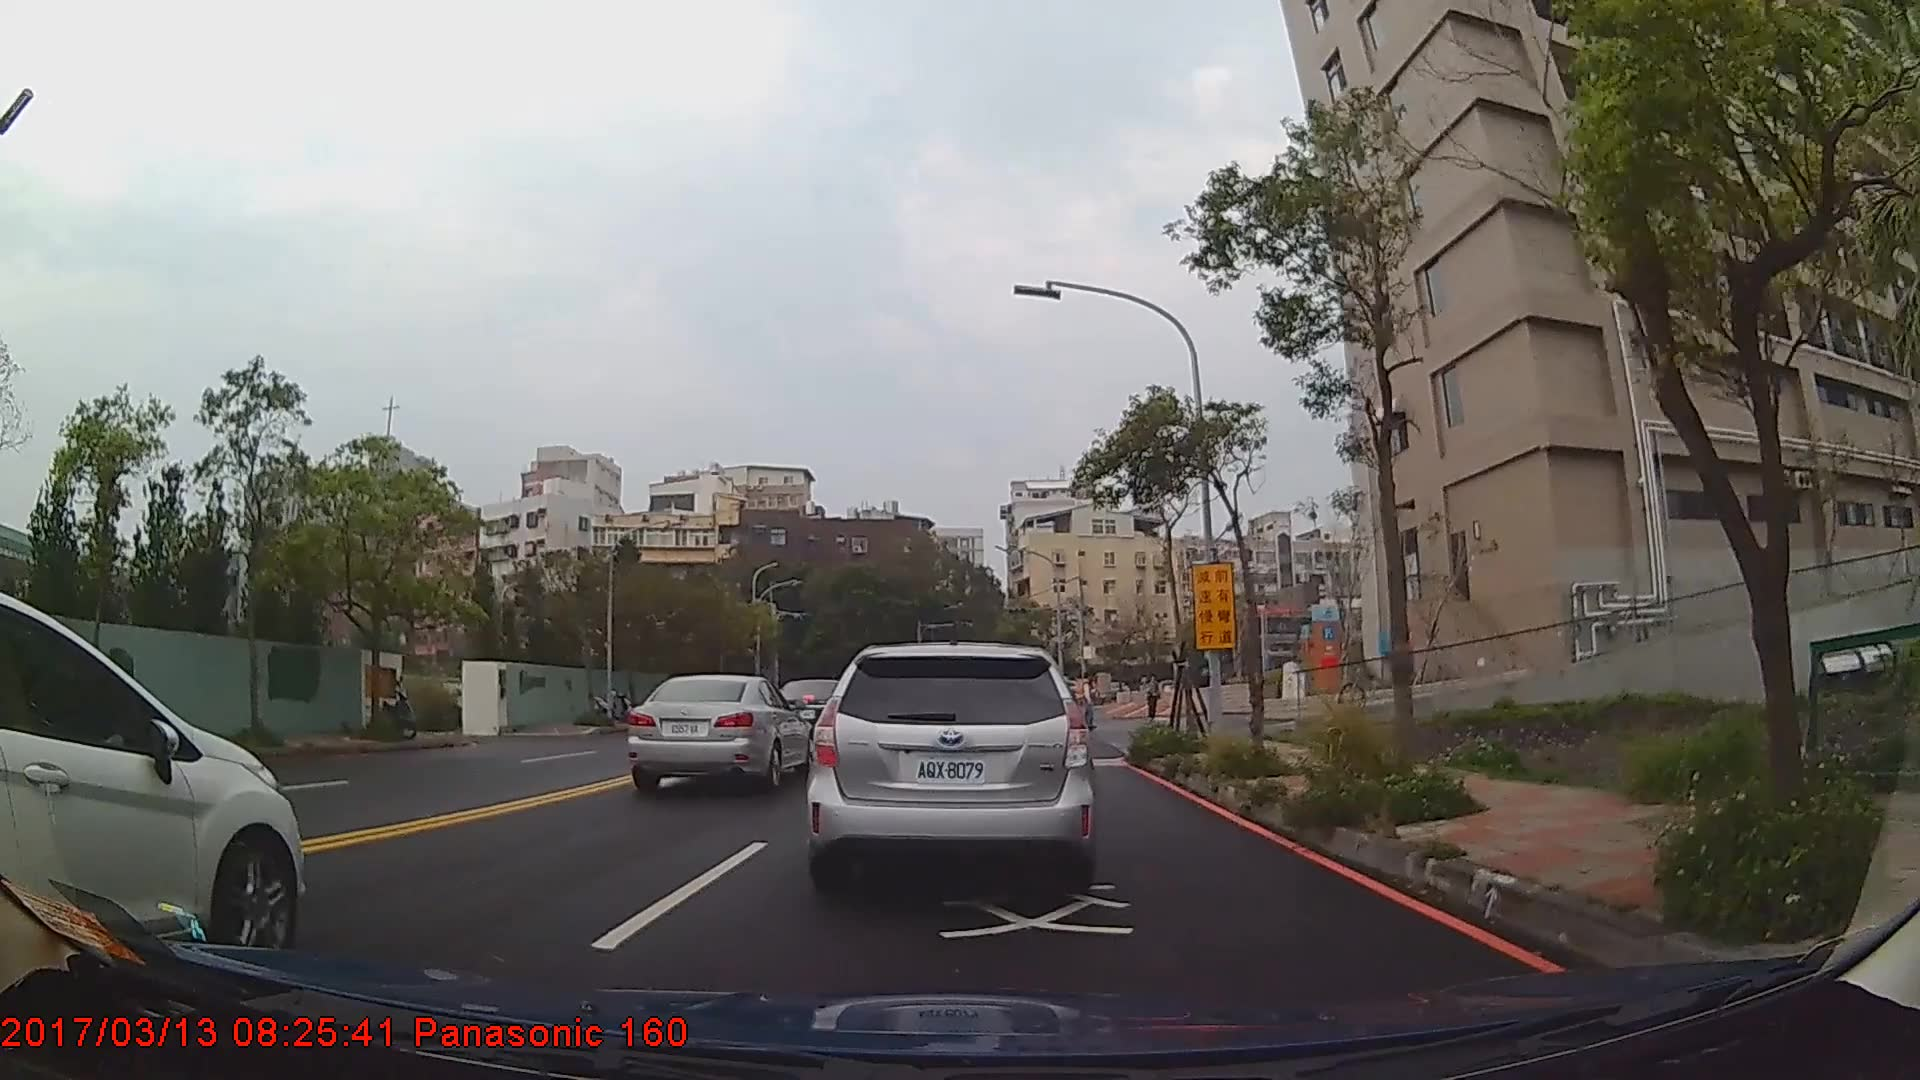pedestrian: (1079, 669, 1101, 731)
vehicle: (0, 589, 304, 964), (806, 638, 1099, 896), (625, 672, 814, 788)
